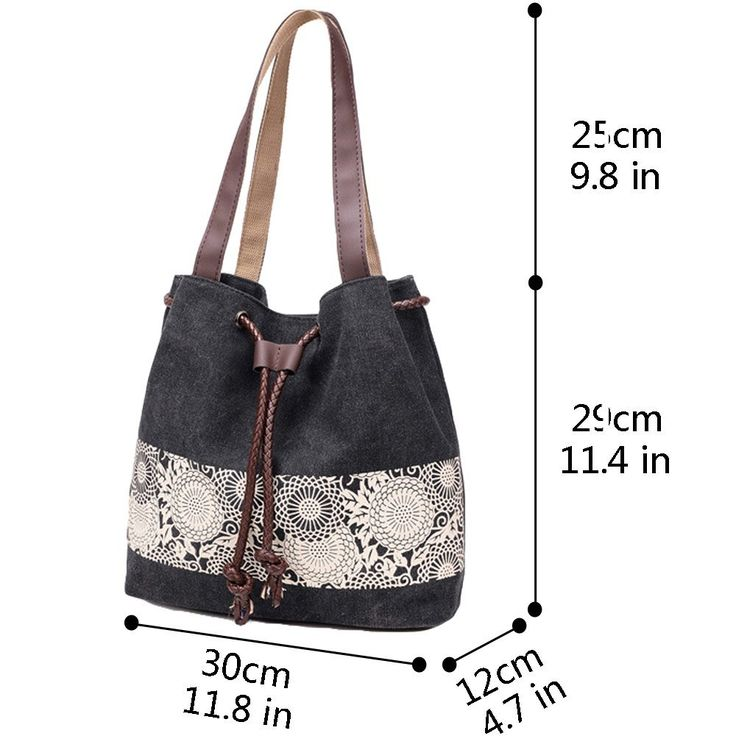cuero: (191, 9, 385, 373)
